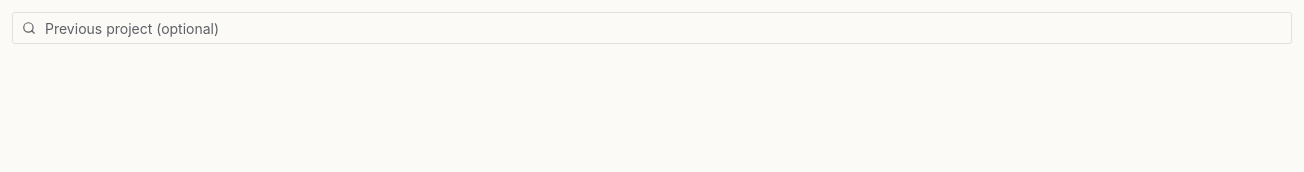
Scenario: ProjectLinkPicker › searches the owner's projects and selects a match
Later steps or results of the test are not shown.
Type "Al" into the field labelled "Previous project" at (652, 28), box [12, 12, 1292, 44]
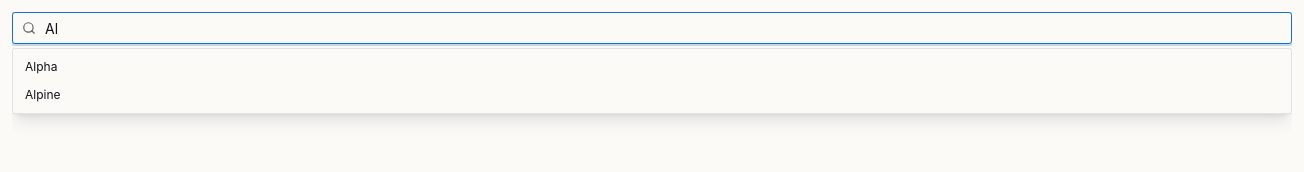
Now the button "Alpha" is shown, box [13, 53, 1291, 81]
